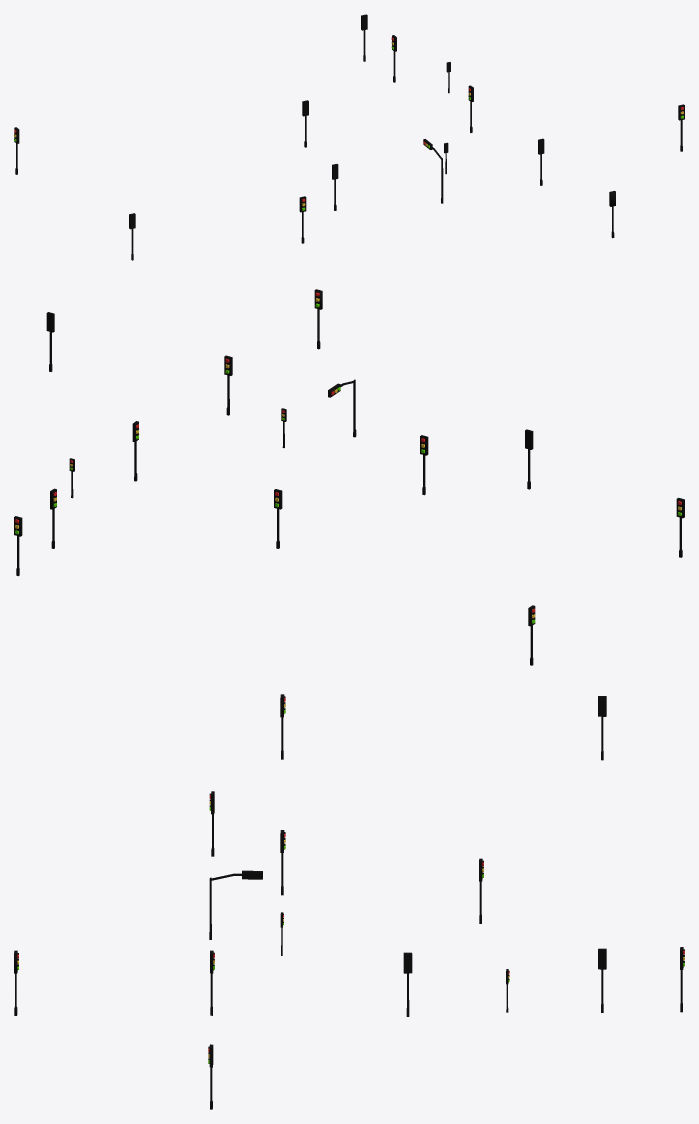
The model's file is trafficLight.fbx.
3 renders of one model, top to bottom at view 1: azimuth 30°, elevation 25°; view 2: azimuth 150°, elevation 25°; view 3: azimuth 270°, elevation 25°, orthographic. The views are drawn at different scales.
Parts seen in each view (by area): view 1: lampsingel; view 2: lampsingel; view 3: lampsingel.
Boxes of the visible parts, left/top/right/bottom form: lampsingel: left=14, top=14, right=684, bottom=260; lampsingel: left=14, top=289, right=684, bottom=665; lampsingel: left=14, top=694, right=684, bottom=1109.
Bounding box in the file's own units: 4.68 × 0.48 × 3.75.
